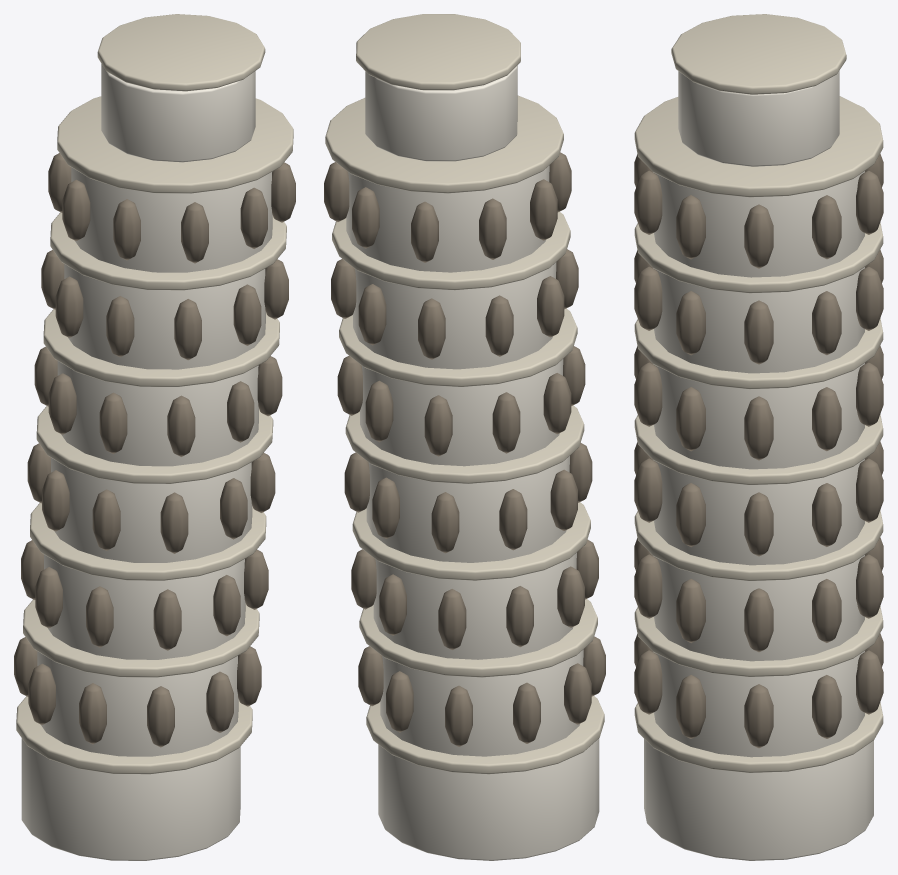
Rendered from pisa_tower.glb.
3 renders of one model, left to right at view 1: azimuth 30°, elevation 25°; view 2: azimuth 150°, elevation 25°; view 3: azimuth 270°, elevation 25°, orthographic. The views are drawn at different scales.
Visible parts, largest first — view 1: pisa_tower; view 2: pisa_tower; view 3: pisa_tower.
Part boxes in pixels (box(x1,y1,x2,y2)): pisa_tower: box(14, 14, 295, 860); pisa_tower: box(324, 14, 605, 860); pisa_tower: box(634, 14, 883, 860).
Bounding box in the file's own units: 2.61 × 7.53 × 2.16.
